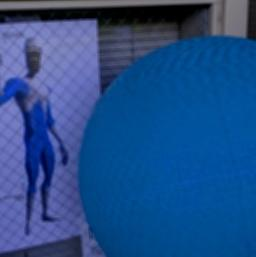algae: (75, 30, 256, 257)
